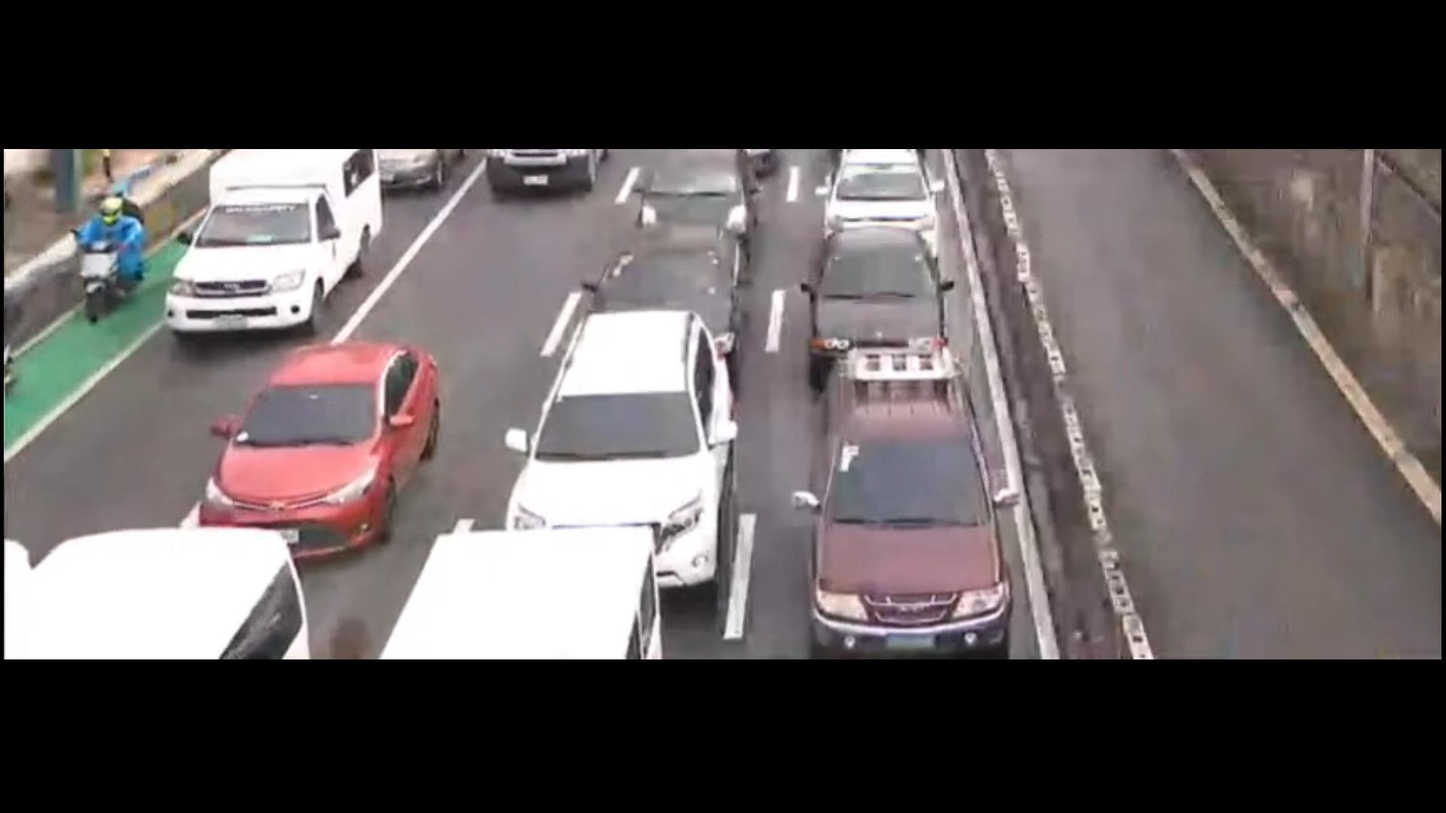Motorcycle: (82, 189, 159, 346)
Multicab: (140, 151, 379, 357)
SUV: (492, 307, 754, 602), (796, 332, 1013, 649)
Sedan: (179, 318, 471, 550), (814, 224, 962, 375), (594, 221, 765, 351), (634, 142, 759, 265)
